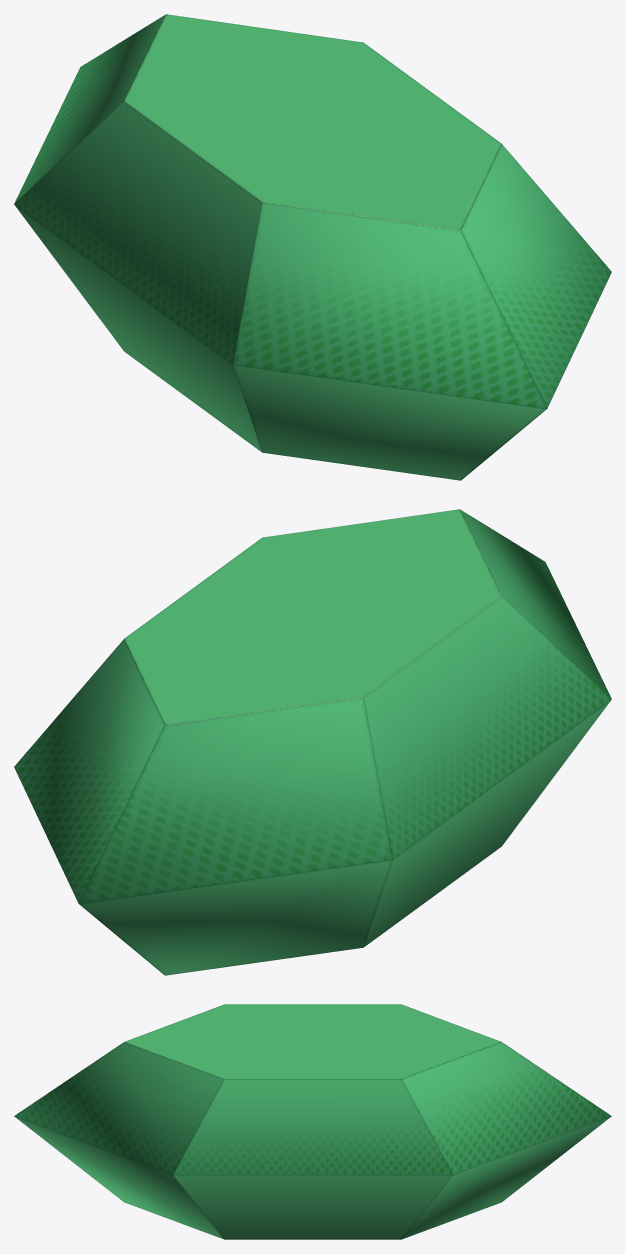
The model's file is Gem.fbx.
3 views of the same model, one above another, from view 1: azimuth 30°, elevation 25°; view 2: azimuth 150°, elevation 25°; view 3: azimuth 270°, elevation 25° (orthographic). The views are drawn at different scales.
Parts seen in each view (by area): view 1: pCube1; view 2: pCube1; view 3: pCube1.
Boxes of the visible parts, x1,y1,x2,y2 form: pCube1: (14,14,611,480); pCube1: (14,509,611,975); pCube1: (14,1004,611,1239).
Bounding box in the file's own units: 121 × 76.46 × 258.
Materials: 1 (1 with a texture image).
